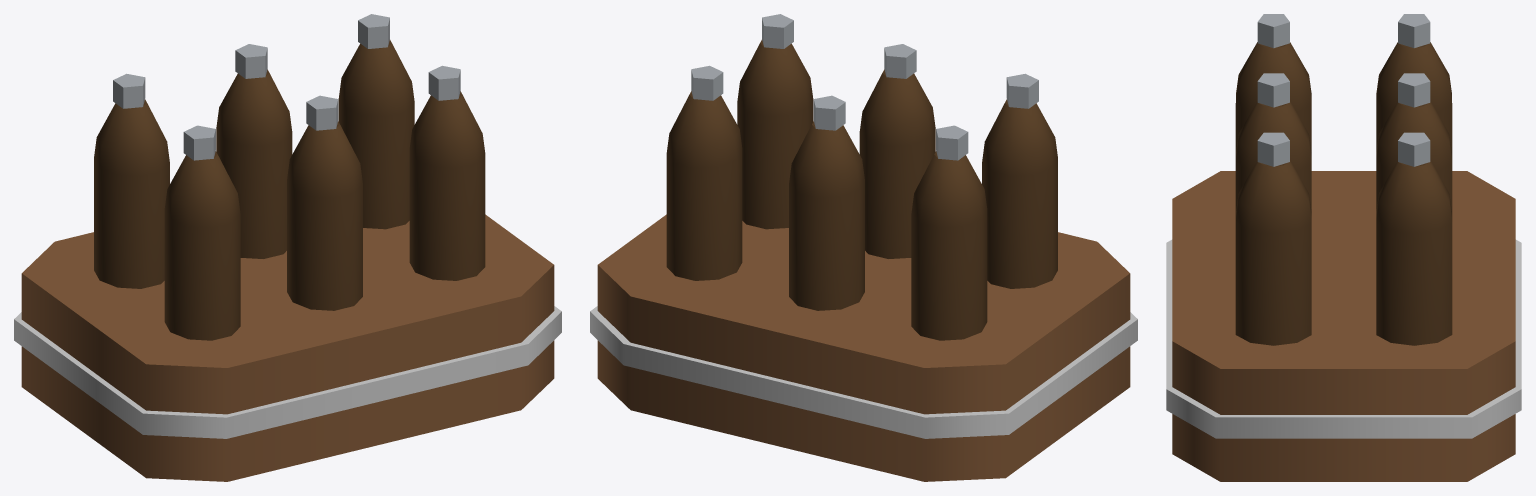
Rendered from food_beer.obj.
The picture shows the model from 3 angles, left to right: view 1: azimuth 30°, elevation 25°; view 2: azimuth 150°, elevation 25°; view 3: azimuth 270°, elevation 25°; orthographic projection.
Visible parts, largest first — view 1: part_000_log, part_005_log_burnt, part_054_bottle, part_010_bottle, part_032_bottle, part_076_bottle, part_120_bottle, part_098_bottle, part_048_gun_light, part_070_gun_light, part_092_gun_light, part_114_gun_light (+2 smaller); view 2: part_000_log, part_005_log_burnt, part_120_bottle, part_076_bottle, part_098_bottle, part_010_bottle, part_054_bottle, part_032_bottle, part_114_gun_light, part_026_gun_light, part_048_gun_light, part_136_gun_light (+2 smaller); view 3: part_000_log, part_054_bottle, part_120_bottle, part_005_log_burnt, part_010_bottle, part_076_bottle, part_032_bottle, part_098_bottle, part_070_gun_light, part_136_gun_light, part_048_gun_light, part_114_gun_light (+2 smaller).
Part boxes in pixels (bbox=[...]): part_000_log: bbox=[21, 214, 554, 481]; part_005_log_burnt: bbox=[14, 306, 561, 438]; part_054_bottle: bbox=[409, 91, 485, 280]; part_010_bottle: bbox=[164, 151, 240, 340]; part_032_bottle: bbox=[287, 121, 362, 310]; part_076_bottle: bbox=[94, 99, 169, 288]; part_120_bottle: bbox=[338, 40, 414, 229]; part_098_bottle: bbox=[216, 69, 292, 258]; part_048_gun_light: bbox=[306, 95, 338, 130]; part_070_gun_light: bbox=[428, 65, 460, 100]; part_092_gun_light: bbox=[113, 73, 145, 108]; part_114_gun_light: bbox=[235, 44, 267, 78]; part_000_log: bbox=[597, 214, 1130, 481]; part_005_log_burnt: bbox=[590, 306, 1137, 438]; part_120_bottle: bbox=[666, 91, 742, 280]; part_076_bottle: bbox=[911, 151, 987, 340]; part_098_bottle: bbox=[789, 121, 864, 310]; part_010_bottle: bbox=[982, 99, 1057, 288]; part_054_bottle: bbox=[737, 40, 813, 229]; part_032_bottle: bbox=[859, 69, 935, 258]; part_114_gun_light: bbox=[813, 95, 845, 130]; part_026_gun_light: bbox=[1006, 73, 1038, 108]; part_048_gun_light: bbox=[884, 44, 916, 78]; part_136_gun_light: bbox=[691, 65, 723, 100]; part_000_log: bbox=[1172, 171, 1515, 481]; part_054_bottle: bbox=[1235, 161, 1311, 345]; part_120_bottle: bbox=[1376, 161, 1452, 345]; part_005_log_burnt: bbox=[1166, 239, 1521, 438]; part_010_bottle: bbox=[1235, 42, 1311, 161]; part_076_bottle: bbox=[1376, 42, 1452, 161]; part_032_bottle: bbox=[1235, 101, 1311, 221]; part_098_bottle: bbox=[1376, 101, 1452, 221]; part_070_gun_light: bbox=[1257, 132, 1289, 166]; part_136_gun_light: bbox=[1398, 132, 1430, 166]; part_048_gun_light: bbox=[1257, 73, 1289, 107]; part_114_gun_light: bbox=[1398, 73, 1430, 107].
Bounding box in the file's own units: 0.616 × 0.43 × 0.456.
